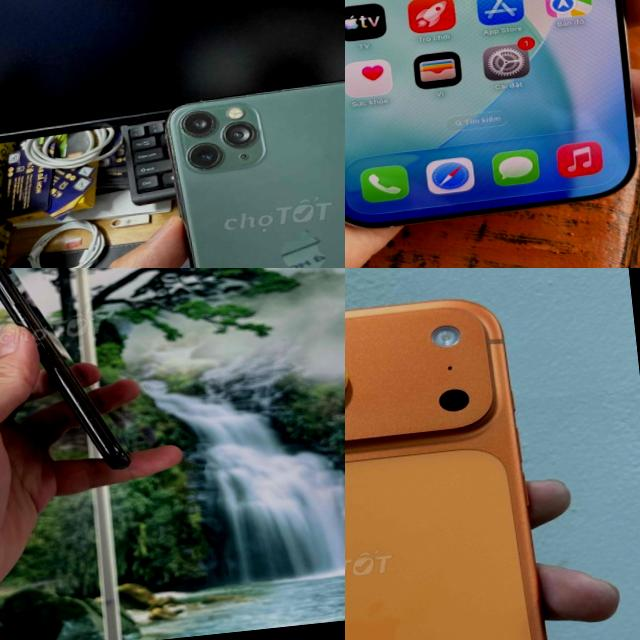gen_11: (155, 67, 345, 268)
gen_16: (345, 0, 640, 234)
gen_17: (345, 290, 577, 640)
gen_x_xs: (0, 268, 129, 468)
